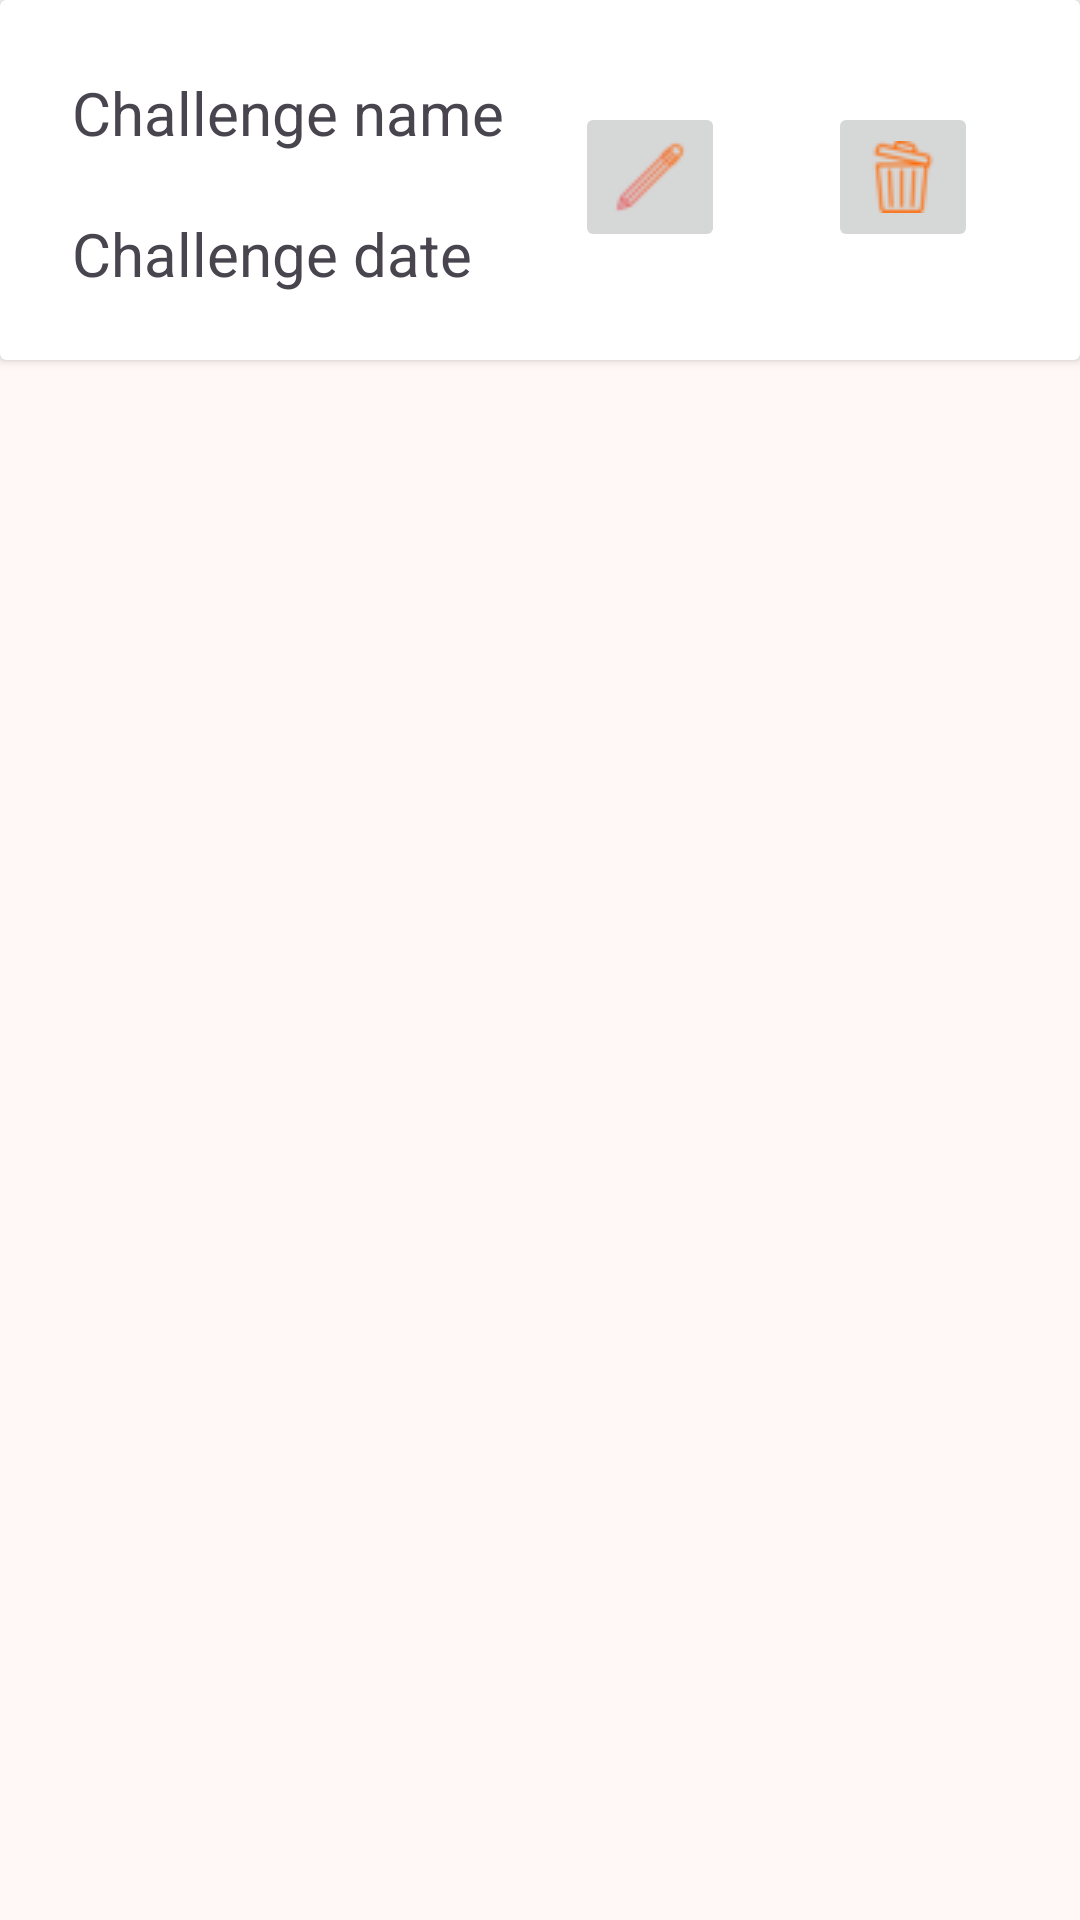

Icon bounding boxes for this 1080*1920 phone screenshot, format (x1, y1, x2, y2):
bin: (840, 120, 966, 234)
pencil: (587, 120, 713, 234)
